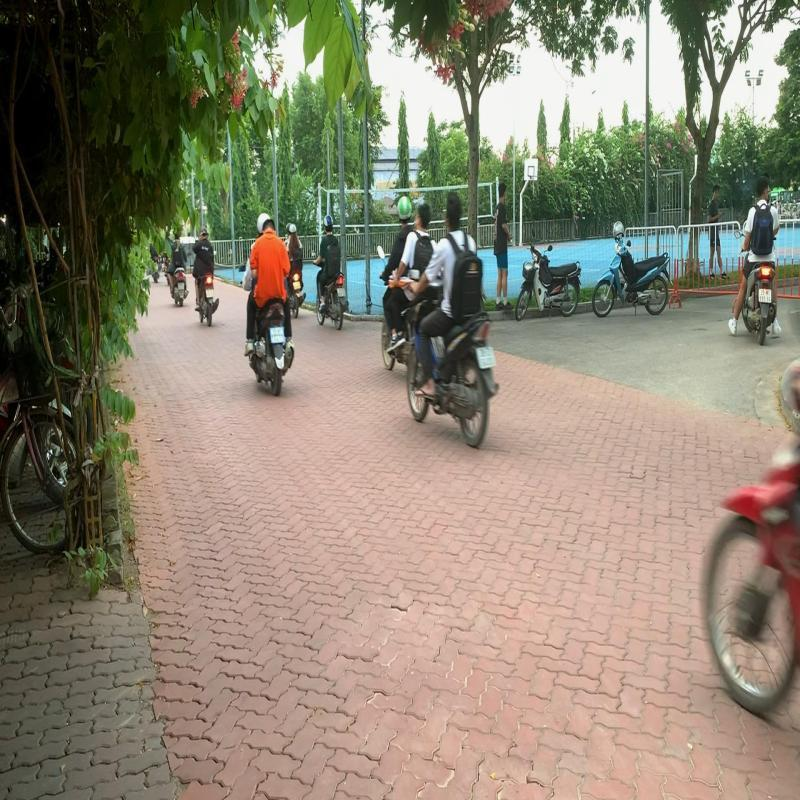nohelmet: (414, 200, 432, 234)
